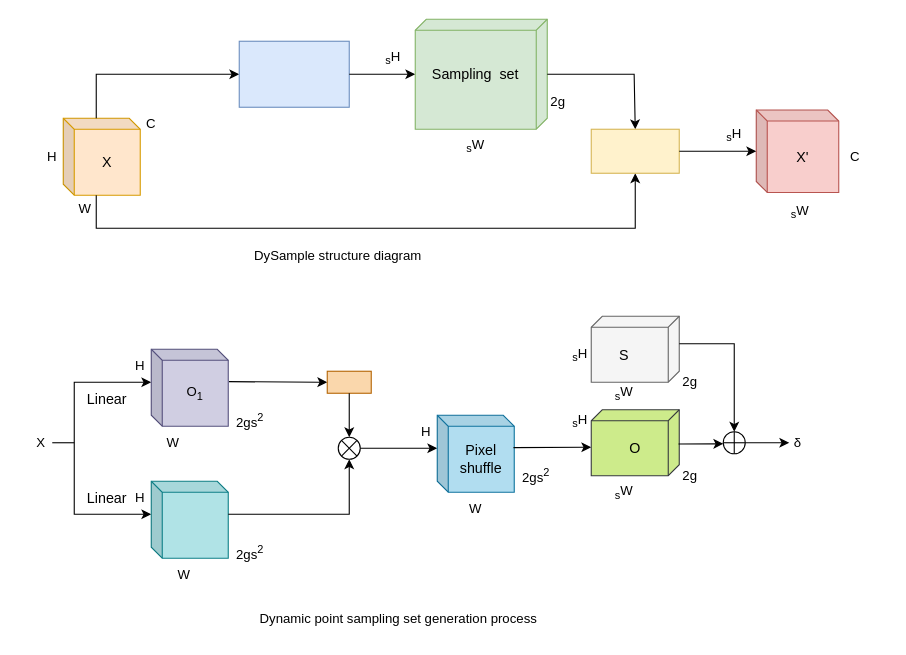
This 906x655 diagram has some shape labels left out. The shapes that lost their labels are listed below. From the top down, each one's centre as x and y in pixels, then its label:
point 293,73: Sampling ponit generator
point 634,150: grid sample
point 348,381: 0.5δ
point 189,519: O 2
